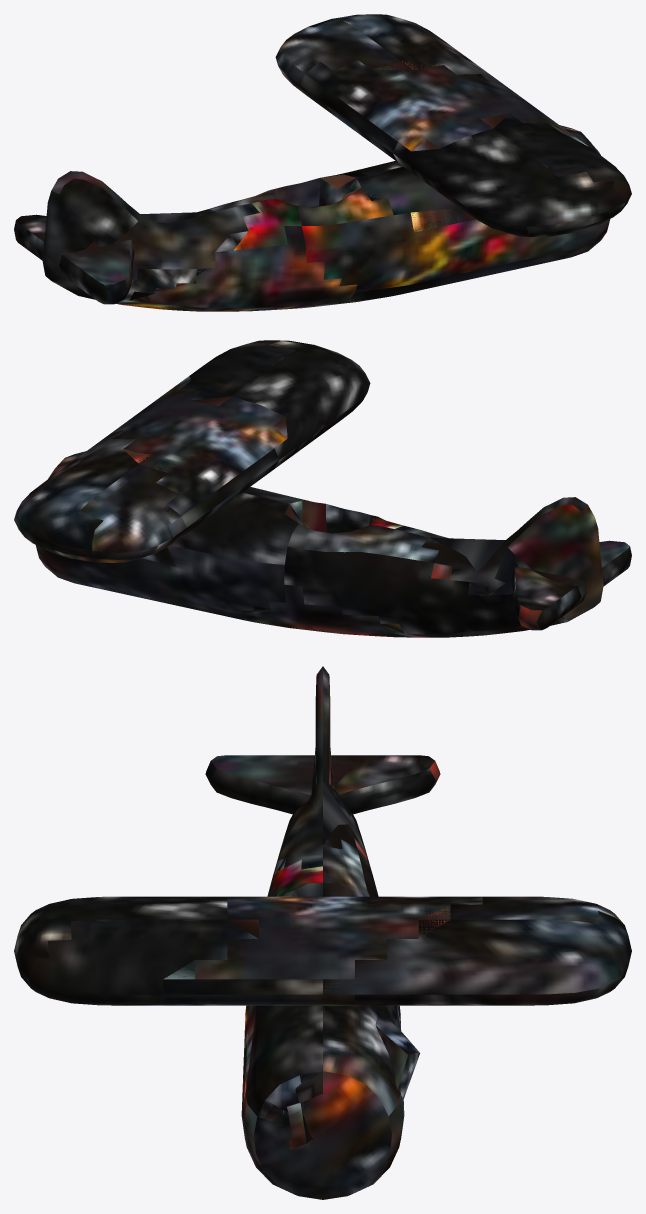
Rendered from Airplane Ragdoll.fbx.
3 renders of one model, top to bottom at view 1: azimuth 30°, elevation 25°; view 2: azimuth 150°, elevation 25°; view 3: azimuth 270°, elevation 25°, orthographic. The views are drawn at different scales.
Visible parts, largest first — view 1: Wing 2, Body 3, Wing 3, Body 5, Body 4, Wing 1, Body 2, Tail 1, Body 7, Tail2, Body 1; view 2: Body 7, Body 1, Wing 1, Wing 3, Wing 2, Body 5, Body 6, Tail2, Tail 1, Body 2, Body 3; view 3: Wing 1, Body 1, Wing 3, Wing 2, Body 2, Body 5, Tail 1, Tail2, Body 7, Body 3, Body 4.
Boxes of the visible parts, bbox=[...] form: Wing 2: bbox=[393, 113, 631, 236]; Body 3: bbox=[297, 188, 610, 301]; Wing 3: bbox=[287, 60, 587, 161]; Body 5: bbox=[42, 171, 259, 300]; Body 4: bbox=[78, 199, 364, 311]; Wing 1: bbox=[275, 14, 508, 115]; Body 2: bbox=[342, 129, 597, 232]; Tail 1: bbox=[59, 239, 134, 304]; Body 7: bbox=[209, 174, 356, 211]; Tail2: bbox=[14, 214, 46, 260]; Body 1: bbox=[324, 125, 600, 177]; Body 7: bbox=[284, 504, 568, 637]; Body 1: bbox=[35, 455, 298, 620]; Wing 1: bbox=[14, 429, 220, 562]; Wing 3: bbox=[110, 376, 287, 536]; Wing 2: bbox=[178, 340, 370, 468]; Body 5: bbox=[394, 497, 603, 621]; Body 6: bbox=[238, 584, 429, 637]; Tail2: bbox=[511, 567, 581, 630]; Tail 1: bbox=[530, 540, 631, 605]; Body 2: bbox=[66, 451, 326, 532]; Body 3: bbox=[304, 500, 371, 533]; Wing 1: bbox=[323, 896, 631, 1005]; Body 1: bbox=[254, 1005, 419, 1199]; Wing 3: bbox=[163, 896, 482, 1005]; Wing 2: bbox=[14, 896, 258, 1005]; Body 2: bbox=[245, 1005, 322, 1116]; Body 5: bbox=[274, 666, 364, 871]; Tail 1: bbox=[205, 755, 350, 814]; Tail2: bbox=[334, 755, 440, 814]; Body 7: bbox=[323, 837, 378, 896]; Body 3: bbox=[241, 890, 301, 1195]; Body 4: bbox=[267, 859, 322, 896].
Size of the model in its own units: 853 by 296 by 687.
Materials: 1 (1 with a texture image).
